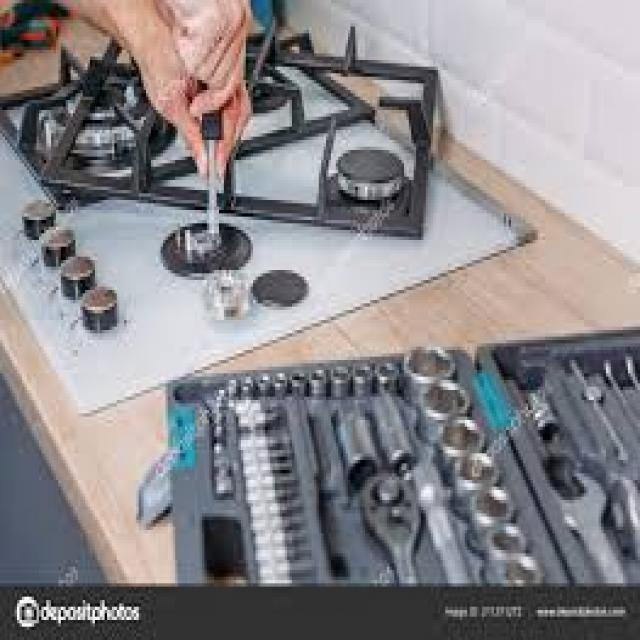screwdriver: (182, 30, 238, 264)
